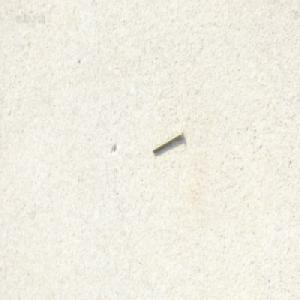Bolt: (151, 127, 183, 154)
